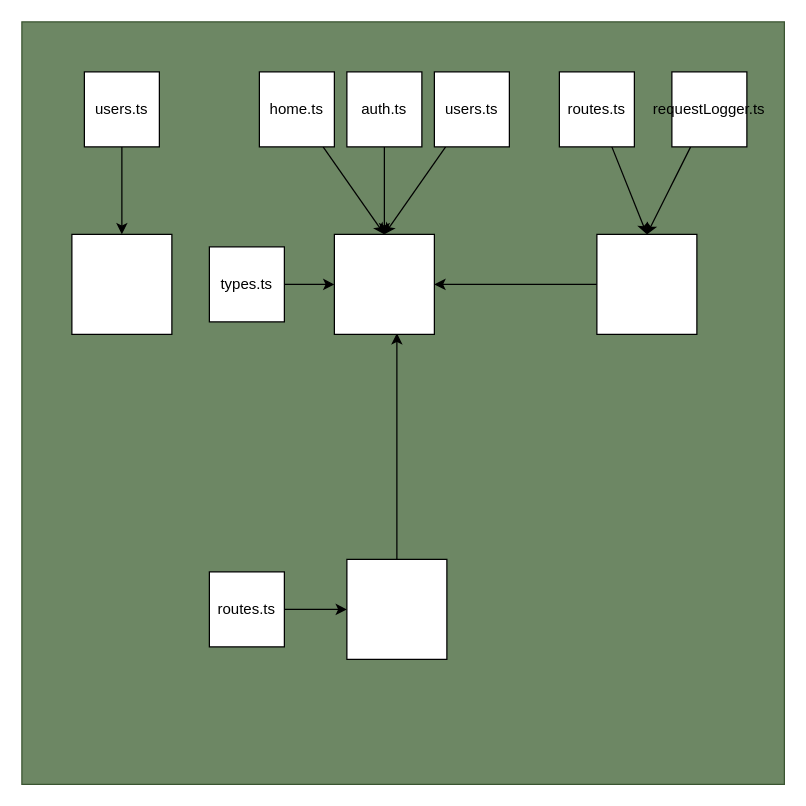
This 806x806 diagram has some shape labels left out. The centre of each missing label's shape, as x and y in pixels:
data: (121,283)
handler: (383,283)
index.ts: (396,608)
middleware: (646,283)
